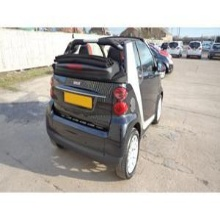no damage: (45, 34, 164, 180), (185, 39, 218, 59)
